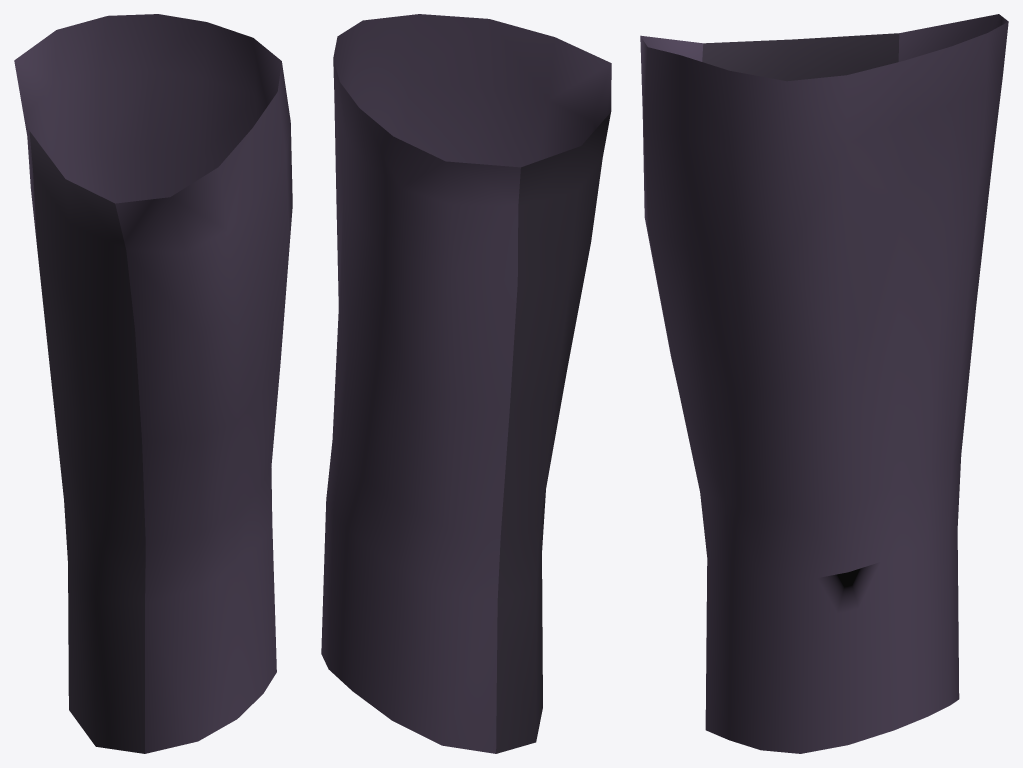
File: Lkenn.obj
The picture shows the model from 3 angles, left to right: view 1: azimuth 30°, elevation 25°; view 2: azimuth 150°, elevation 25°; view 3: azimuth 270°, elevation 25°; orthographic projection. The views are drawn at different scales.
Visible parts, largest first — view 1: rkenn1:L2_Madara_torso_Plane_011_Blender_Render_Madara_Material; view 2: rkenn1:L2_Madara_torso_Plane_011_Blender_Render_Madara_Material; view 3: rkenn1:L2_Madara_torso_Plane_011_Blender_Render_Madara_Material.
Part boxes in pixels (bbox=[...]): rkenn1:L2_Madara_torso_Plane_011_Blender_Render_Madara_Material: bbox=[14, 14, 292, 753]; rkenn1:L2_Madara_torso_Plane_011_Blender_Render_Madara_Material: bbox=[321, 14, 611, 753]; rkenn1:L2_Madara_torso_Plane_011_Blender_Render_Madara_Material: bbox=[640, 14, 1008, 753].
Bounding box in the file's own units: 0.3972 × 1.1 × 0.4954.
Materials: 1 (1 with a texture image).
